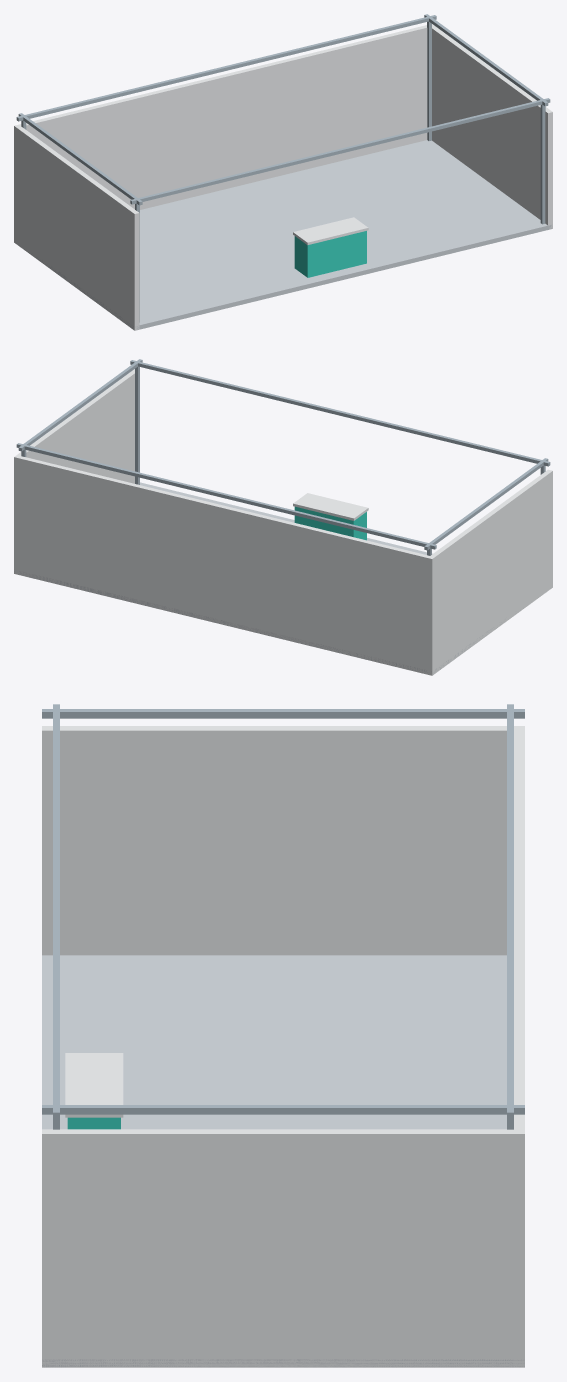
3 renders of one model, top to bottom at view 1: azimuth 30°, elevation 25°; view 2: azimuth 150°, elevation 25°; view 3: azimuth 270°, elevation 25°, orthographic. The views are drawn at different scales.
Parts seen in each view (by area): view 1: Exhibition Booth Concept; view 2: Exhibition Booth Concept; view 3: Exhibition Booth Concept.
Part boxes in pixels (left/top/right/bottom): Exhibition Booth Concept: left=14, top=14, right=552, bottom=330; Exhibition Booth Concept: left=14, top=359, right=552, bottom=675; Exhibition Booth Concept: left=42, top=704, right=524, bottom=1367.
Bounding box in the file's own units: 12 × 3.49 × 6.
